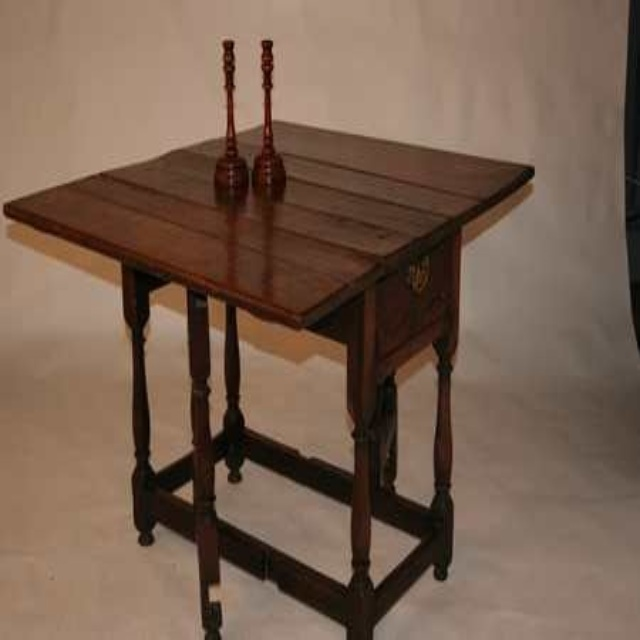obstacle: (4, 41, 533, 638)
